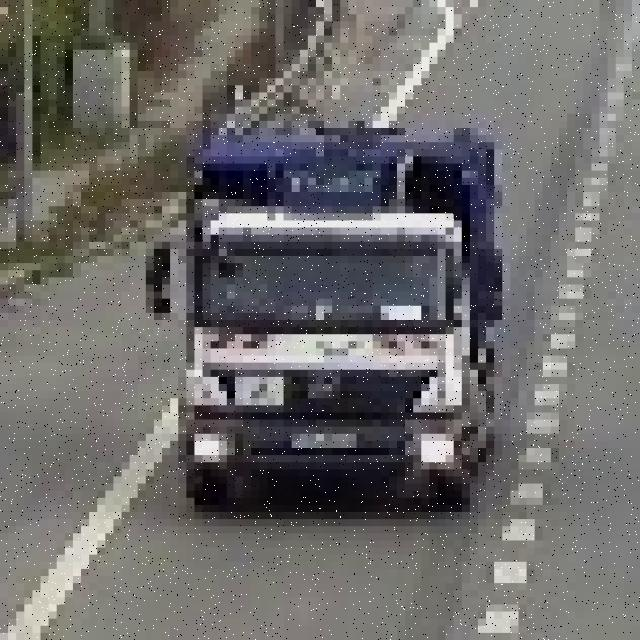truck: (154, 114, 510, 505)
